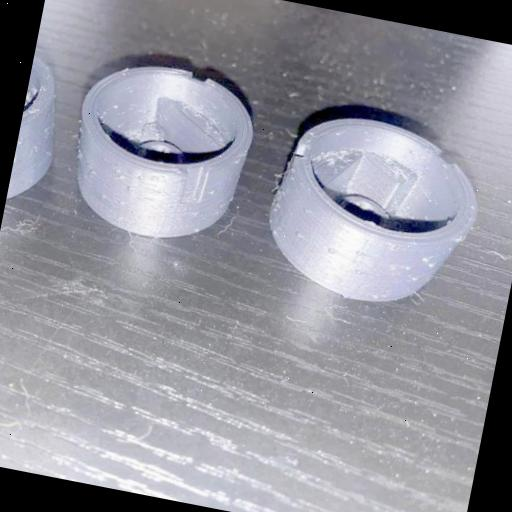blobs: (324, 245, 340, 258), (291, 226, 305, 240), (424, 261, 438, 271), (96, 192, 110, 202), (116, 172, 128, 183), (420, 254, 432, 264), (86, 166, 96, 178), (352, 267, 362, 278), (300, 206, 310, 216), (354, 247, 364, 257), (116, 198, 126, 208), (125, 184, 134, 194)
